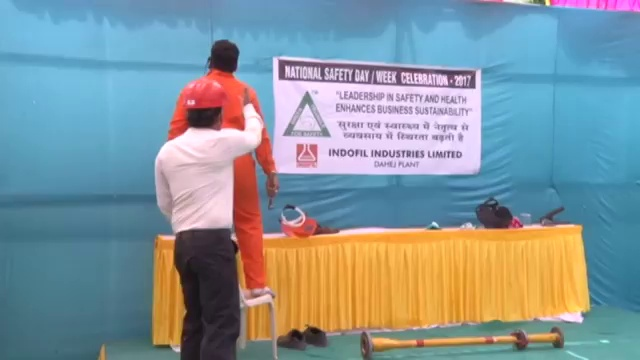helmet: (183, 77, 232, 111)
helmet_off: (205, 36, 243, 73)
helmet_on: (180, 77, 226, 133)
person: (154, 76, 263, 360), (169, 34, 281, 292)
